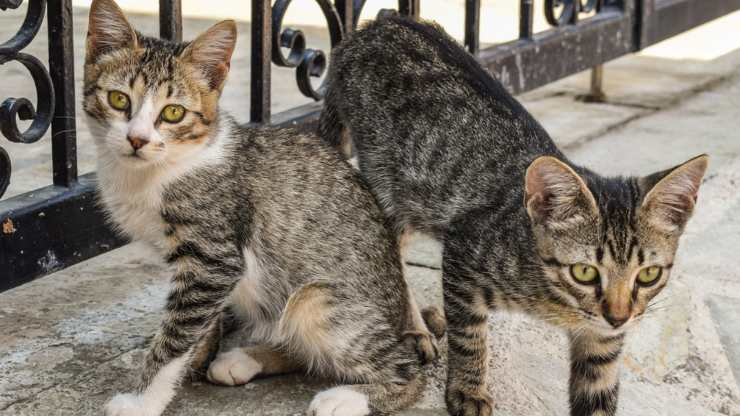cat: (326, 22, 692, 367), (64, 6, 410, 364)
